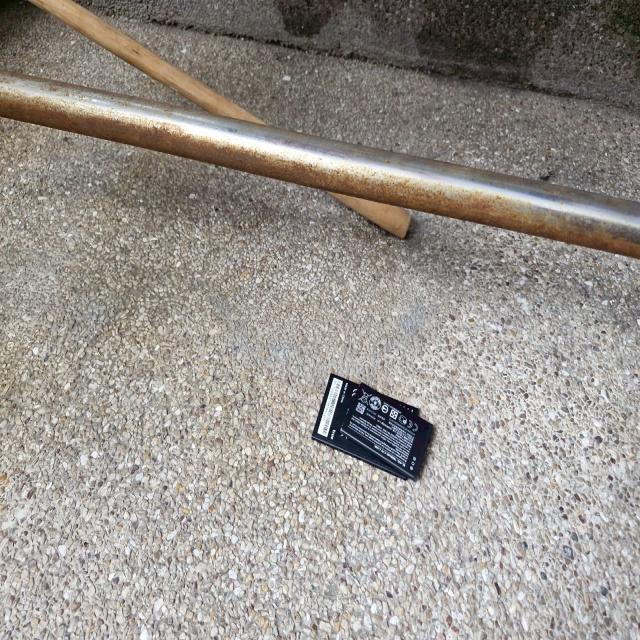battery: (312, 364, 438, 483)
